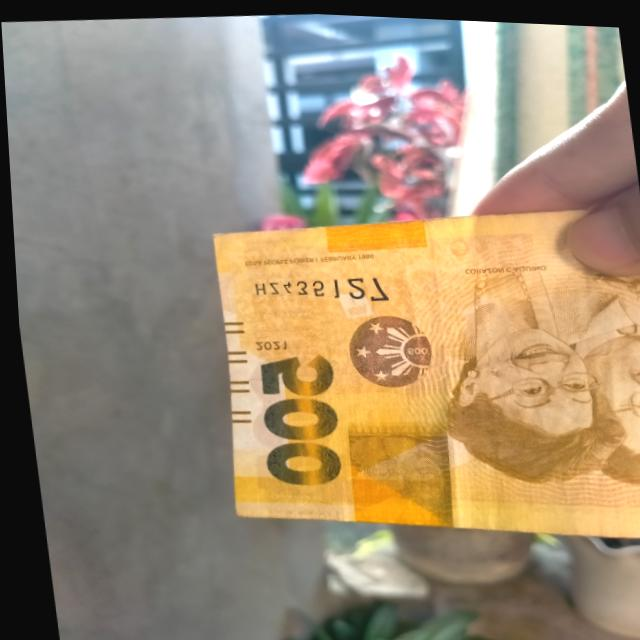concealed_value: (333, 412, 455, 526)
optically_variable_device: (330, 301, 441, 400)
serial_number: (242, 257, 398, 309)
value: (240, 340, 354, 500)
